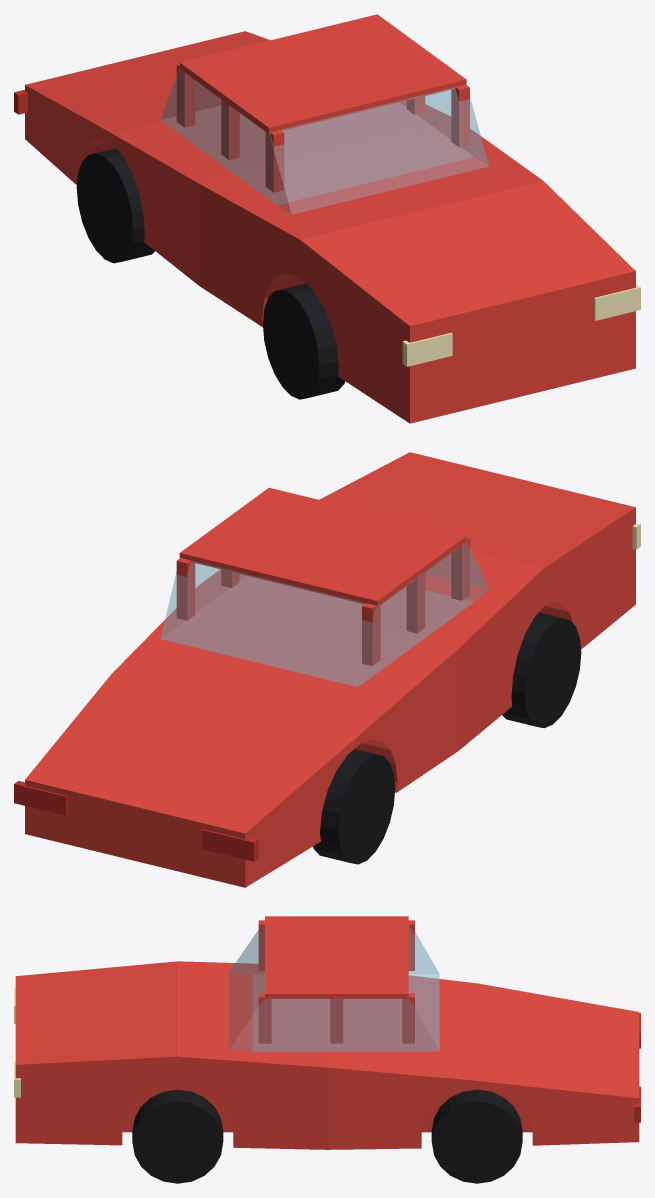
Rendered from taxi.glb.
3 views of the same model, one above another, from view 1: azimuth 30°, elevation 25°; view 2: azimuth 150°, elevation 25°; view 3: azimuth 270°, elevation 25° (orthographic). The views are drawn at different scales.
Parts seen in each view (by area): view 1: body, cabin_glass, cabin_roof, wheel_FR_tyre, wheel_RR_tyre, head_L, pillar_front_L, head_R, pillar_front_R, pillar_rear_L, pillar_mid_L; view 2: body, cabin_glass, cabin_roof, wheel_RR_tyre, wheel_FR_tyre, tail_L, pillar_rear_R, pillar_rear_L, tail_R, pillar_mid_L, pillar_front_L; view 3: body, cabin_glass, cabin_roof, wheel_FL_tyre, wheel_RL_tyre, pillar_front_R, pillar_mid_R, pillar_rear_R.
Part boxes in pixels (x1,y1,x2,y2): body: [25, 31, 635, 423]; cabin_glass: [160, 68, 488, 214]; cabin_roof: [179, 14, 466, 133]; wheel_FR_tyre: [263, 283, 345, 399]; wheel_RR_tyre: [76, 148, 154, 263]; head_L: [402, 332, 452, 366]; pillar_front_L: [265, 130, 284, 192]; head_R: [594, 284, 640, 320]; pillar_front_R: [451, 84, 469, 147]; pillar_rear_L: [176, 63, 195, 127]; pillar_mid_L: [221, 99, 239, 159]; body: [25, 452, 635, 887]; cabin_glass: [160, 541, 488, 686]; cabin_roof: [179, 487, 466, 607]; wheel_RR_tyre: [313, 749, 395, 864]; wheel_FR_tyre: [502, 612, 581, 728]; tail_L: [202, 829, 258, 861]; pillar_rear_R: [176, 558, 195, 620]; pillar_rear_L: [362, 603, 380, 665]; tail_R: [14, 781, 66, 815]; pillar_mid_L: [406, 573, 425, 633]; pillar_front_L: [451, 537, 469, 600]; body: [15, 961, 639, 1149]; cabin_glass: [229, 926, 439, 1051]; cabin_roof: [265, 916, 408, 998]; wheel_FL_tyre: [132, 1089, 223, 1183]; wheel_RL_tyre: [431, 1089, 522, 1183]; pillar_front_R: [258, 993, 271, 1043]; pillar_mid_R: [330, 999, 343, 1043]; pillar_rear_R: [402, 993, 414, 1043].
Size of the model in its own units: 1.72 by 1.38 by 4.42.
